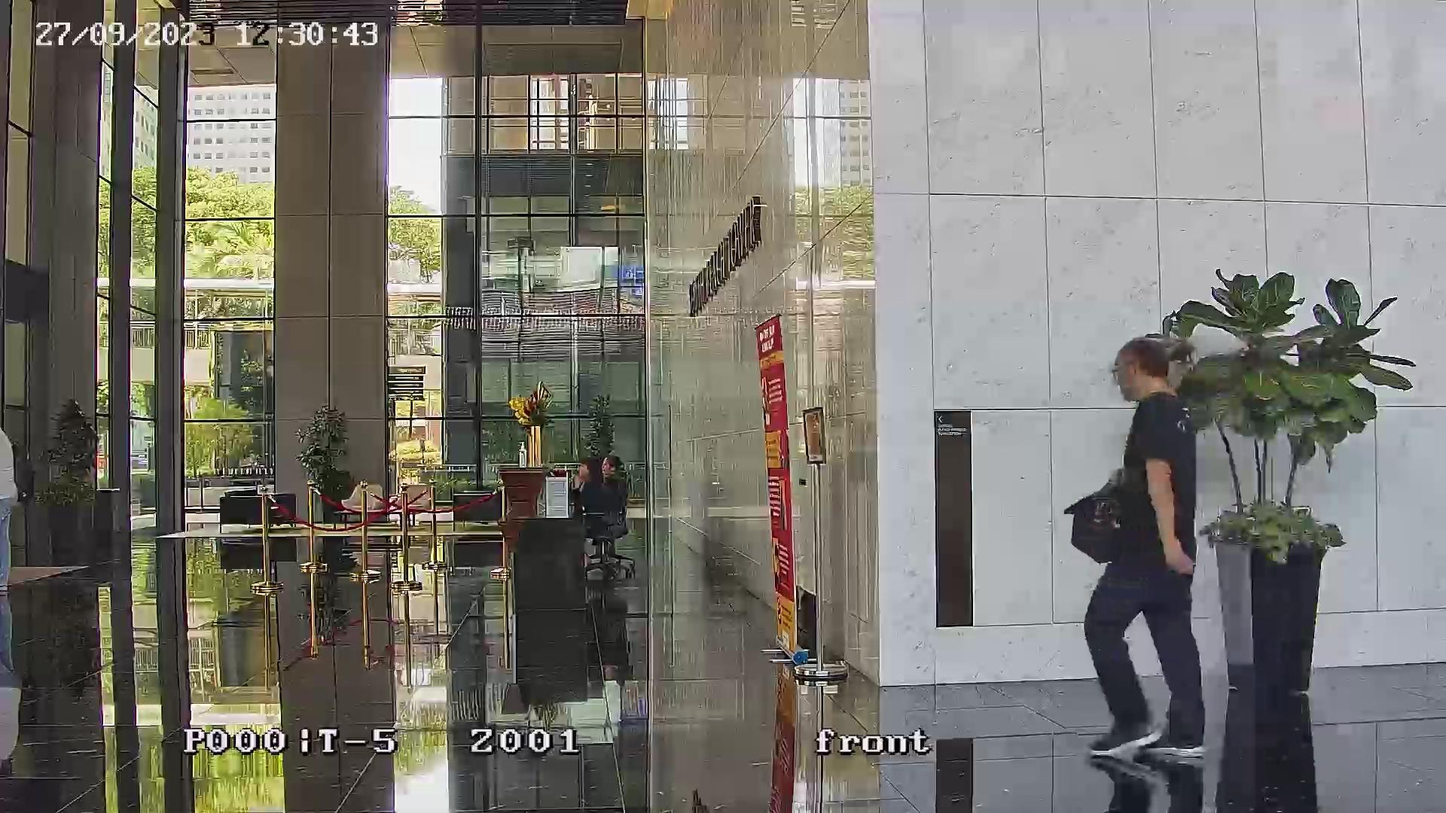person: (1068, 334, 1205, 765), (569, 458, 616, 525), (0, 424, 18, 597), (600, 455, 623, 489)
